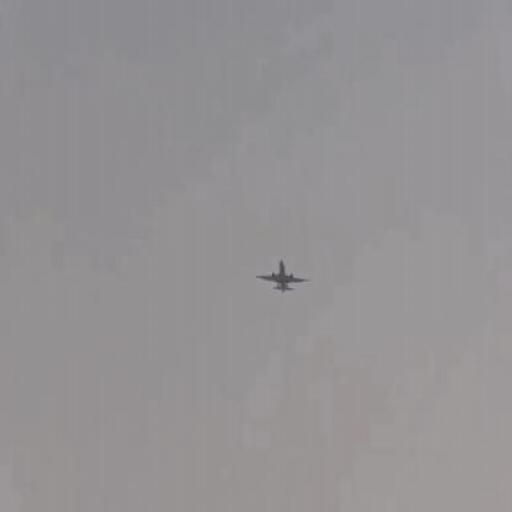aircraft: (256, 257, 309, 292)
